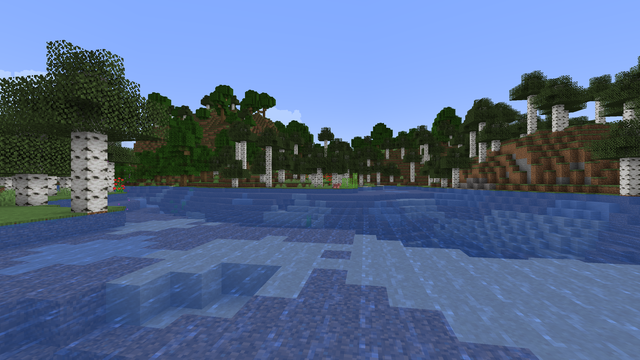cochons: (333, 183, 338, 187)
